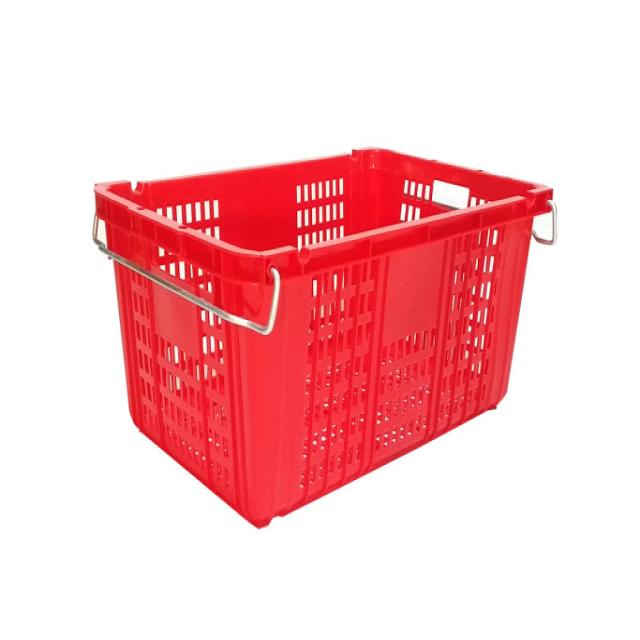basket: (91, 142, 568, 534)
